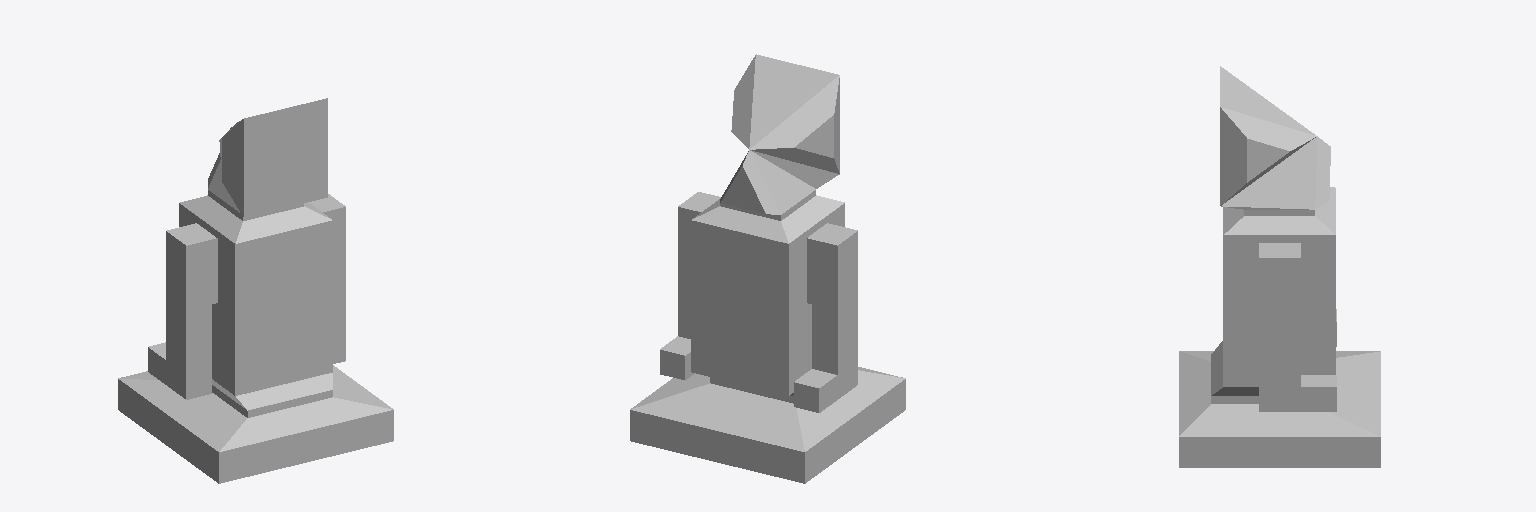
The model's file is Statue.obj.
3 renders of one model, left to right at view 1: azimuth 30°, elevation 25°; view 2: azimuth 150°, elevation 25°; view 3: azimuth 270°, elevation 25°, orthographic.
Visible parts, largest first — view 1: cube1; view 2: cube1; view 3: cube1.
Part boxes in pixels (left/top/right/bottom): cube1: left=118, top=98, right=393, bottom=483; cube1: left=630, top=54, right=905, bottom=483; cube1: left=1179, top=66, right=1380, bottom=467.
Size of the model in its own units: 10 by 18.49 by 10.